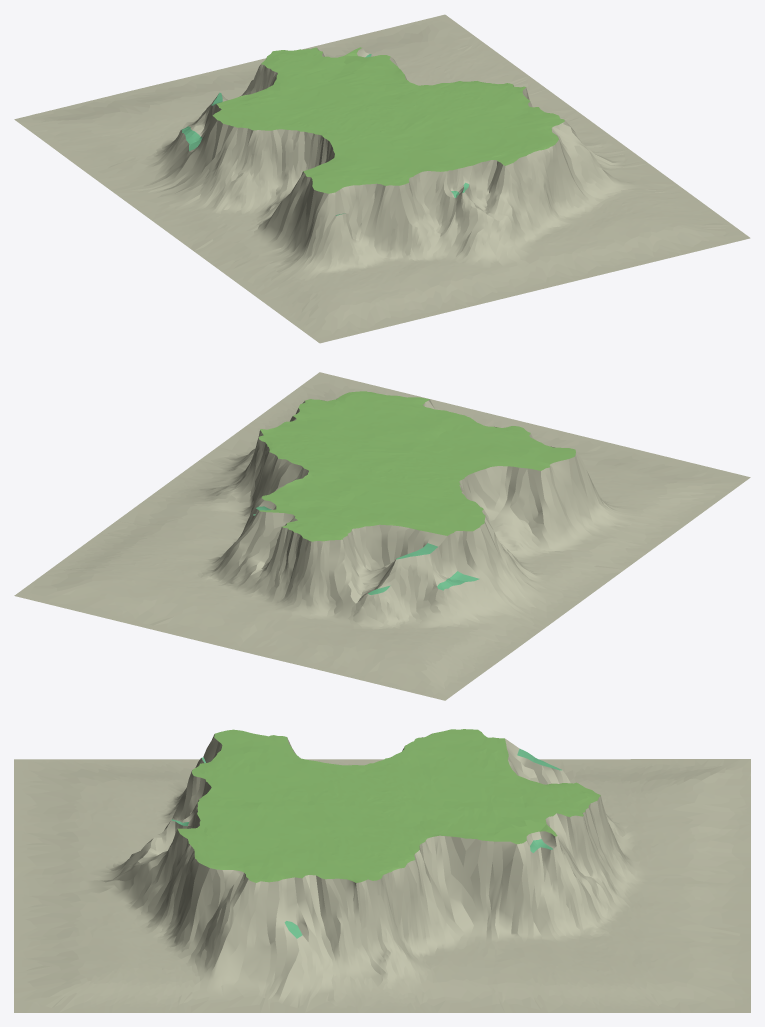
File: island_rocky_A_big_square.fbx
3 views of the same model, one above another, from view 1: azimuth 30°, elevation 25°; view 2: azimuth 150°, elevation 25°; view 3: azimuth 270°, elevation 25° (orthographic). The views are drawn at different scales.
Visible parts, largest first — view 1: island_rocky_A_big_square; view 2: island_rocky_A_big_square; view 3: island_rocky_A_big_square.
Boxes of the visible parts, left/top/right/bottom form: island_rocky_A_big_square: left=14, top=14, right=750, bottom=343; island_rocky_A_big_square: left=14, top=372, right=750, bottom=700; island_rocky_A_big_square: left=14, top=729, right=750, bottom=1012.
Size of the model in its own units: 11390 by 1702 by 13988.
